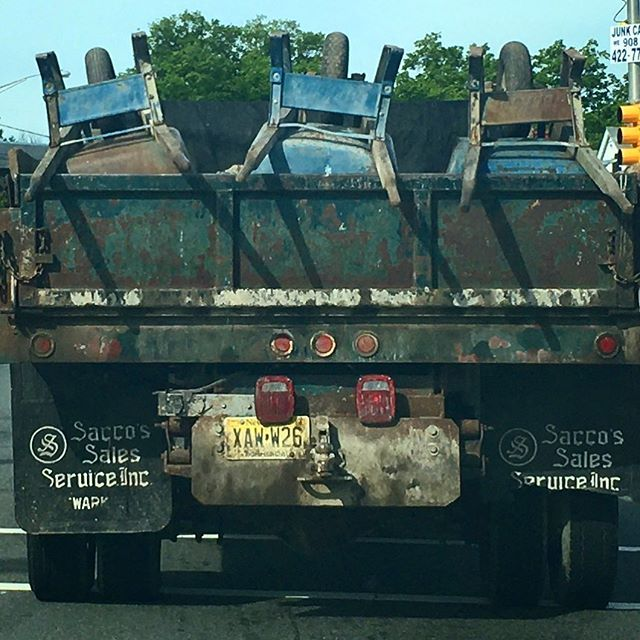truck: (1, 39, 632, 608)
